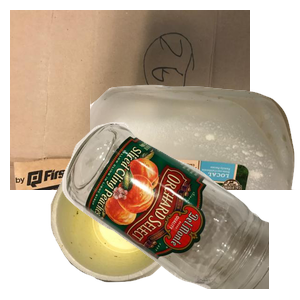cardboard: (10, 10, 250, 190)
glass: (60, 120, 300, 300)
plastic: (90, 82, 300, 262)
trash: (48, 152, 219, 300)
